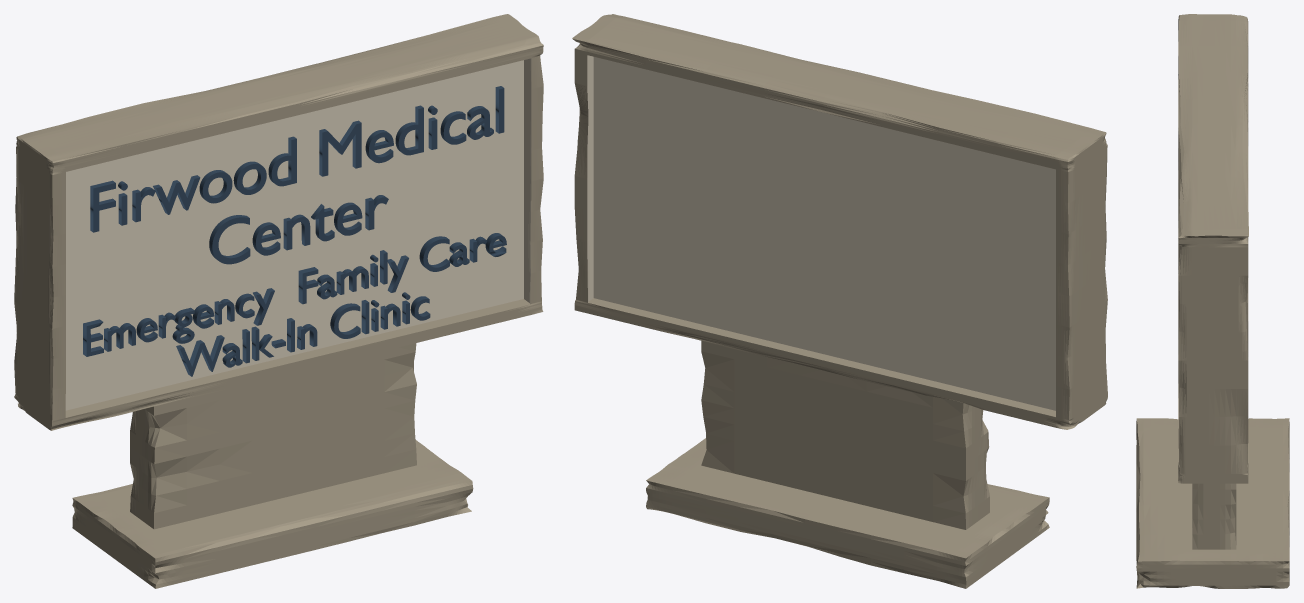
File: firwood_medical_center_sign.001.dae
3 views of the same model, side by side, from view 1: azimuth 30°, elevation 25°; view 2: azimuth 150°, elevation 25°; view 3: azimuth 270°, elevation 25° (orthographic). The views are drawn at different scales.
Visible parts, largest first — view 1: Cube; view 2: Cube; view 3: Cube.
Part boxes in pixels (<box>): Cube: <box>14,14,543,588</box>; Cube: <box>572,14,1107,588</box>; Cube: <box>1136,14,1289,588</box>.
Bounding box in the file's own units: 4.01 × 1.17 × 3.34.
